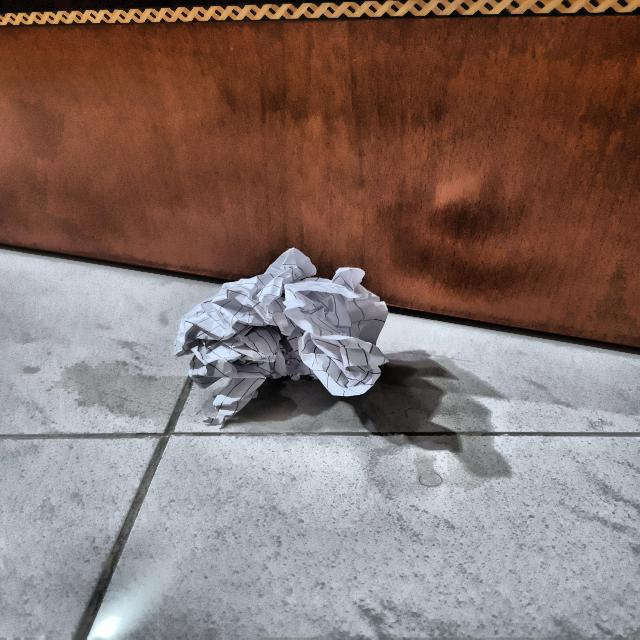Paper: (174, 245, 397, 426)
